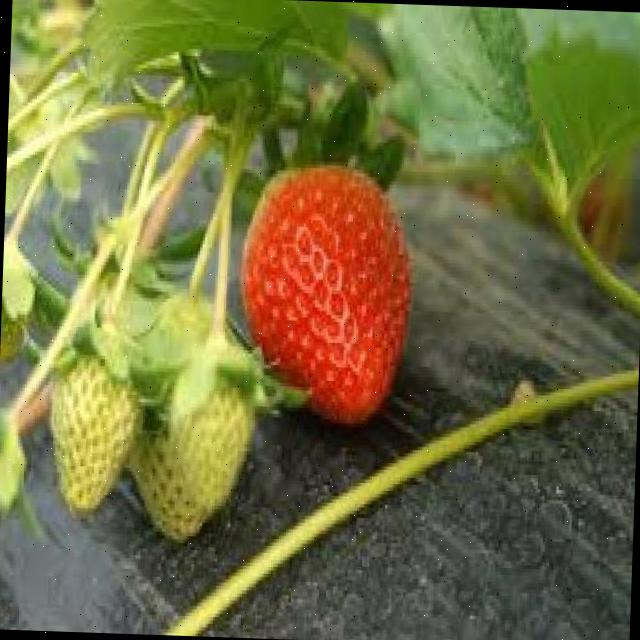strawberry: (234, 162, 416, 428), (44, 348, 144, 512), (165, 373, 248, 514)
